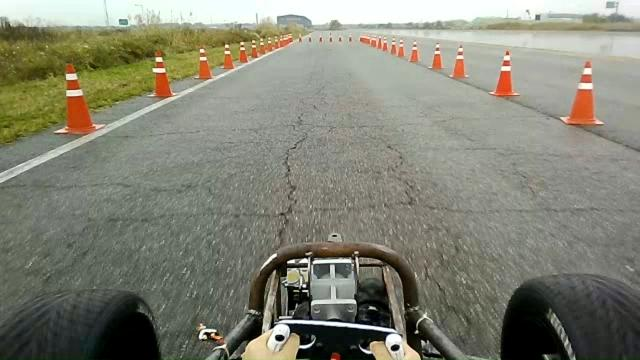red cone: (54, 62, 105, 135), (560, 60, 604, 125), (146, 49, 178, 98), (486, 49, 518, 96), (449, 44, 470, 79), (194, 46, 212, 80), (428, 42, 445, 70), (220, 43, 234, 69), (408, 39, 419, 62), (238, 41, 248, 63), (250, 39, 259, 58), (397, 37, 405, 57), (390, 36, 397, 55)
